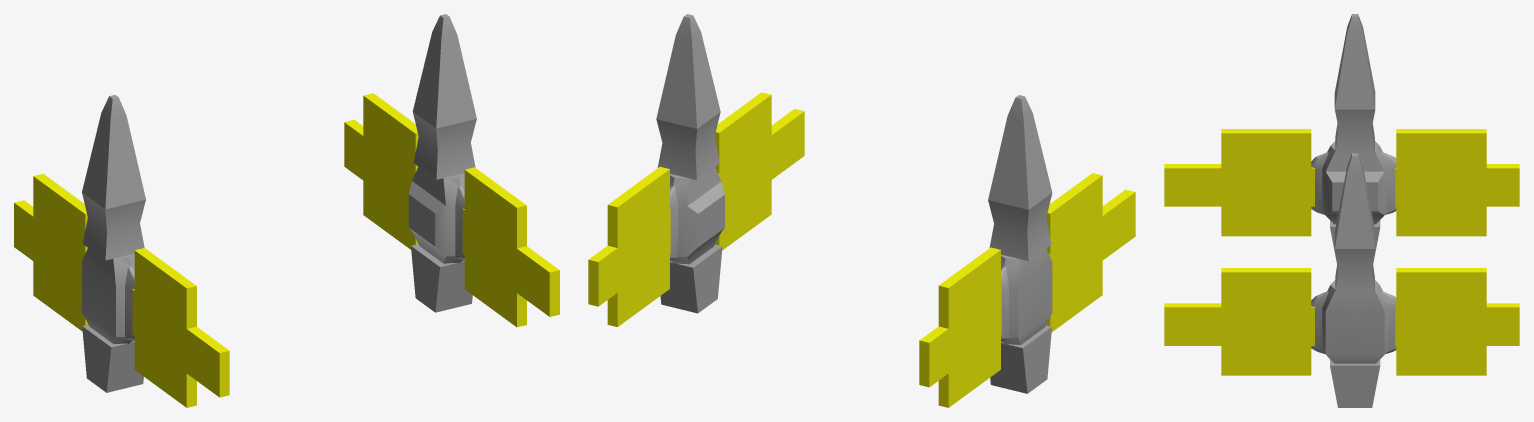
The model's file is BeeQueenDrone.fbx.
The picture shows the model from 3 angles, left to right: view 1: azimuth 30°, elevation 25°; view 2: azimuth 150°, elevation 25°; view 3: azimuth 270°, elevation 25°; orthographic projection. The views are drawn at different scales.
Parts seen in each view (by area): view 1: polySurface8, polySurface15, polySurface18, polySurface7; view 2: polySurface8, polySurface15, polySurface18, polySurface7; view 3: polySurface8, polySurface15, polySurface18, polySurface7.
Part boxes in pixels (x1=…): polySurface8: x1=14, y1=173, x2=229, y2=407; polySurface15: x1=344, y1=93, x2=559, y2=327; polySurface18: x1=408, y1=14, x2=476, y2=312; polySurface7: x1=82, y1=95, x2=145, y2=392; polySurface8: x1=919, y1=173, x2=1135, y2=407; polySurface15: x1=588, y1=92, x2=804, y2=326; polySurface18: x1=656, y1=14, x2=724, y2=313; polySurface7: x1=988, y1=95, x2=1052, y2=393; polySurface8: x1=1164, y1=129, x2=1519, y2=236; polySurface15: x1=1164, y1=268, x2=1519, y2=375; polySurface18: x1=1311, y1=153, x2=1396, y2=407; polySurface7: x1=1311, y1=14, x2=1396, y2=264.
Size of the model in its own units: 255 by 245 by 187.
